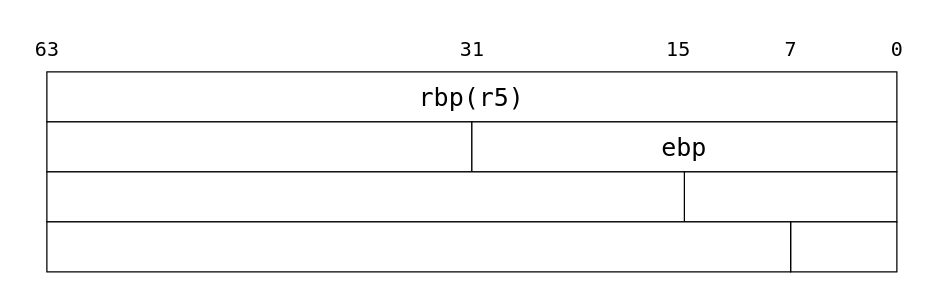
This 936x294 diagram has some shape labels left out. Each missing label, with the box of its shape:
bil: (789, 221, 897, 272)
bp: (683, 171, 897, 222)
